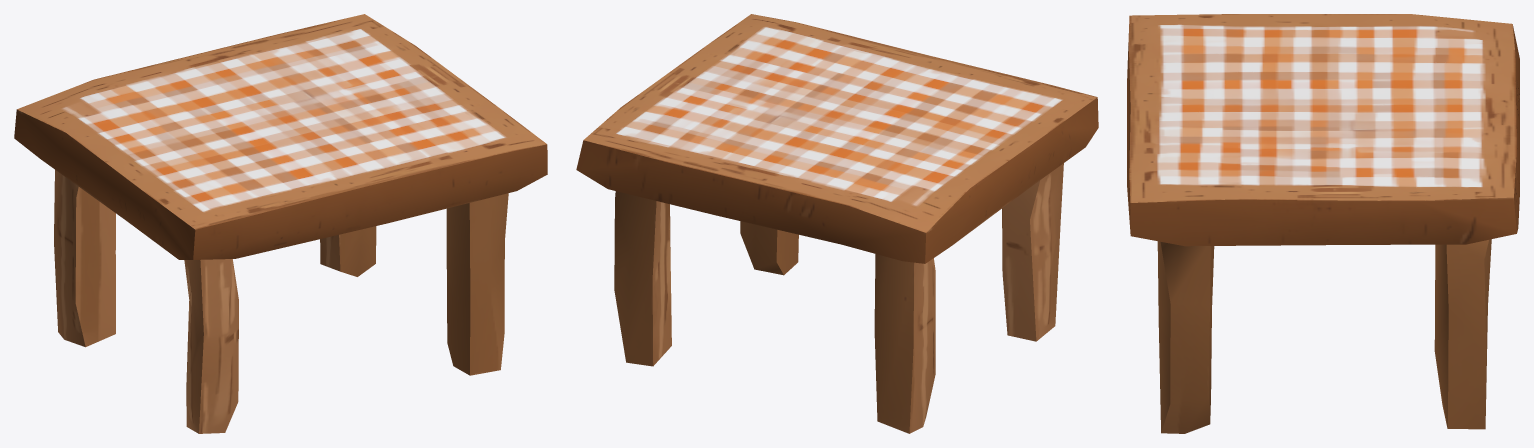
File: family-farm-table.glb
The picture shows the model from 3 angles, left to right: view 1: azimuth 30°, elevation 25°; view 2: azimuth 150°, elevation 25°; view 3: azimuth 270°, elevation 25°; orthographic projection. The views are drawn at different scales.
Parts seen in each view (by area): view 1: geometry_0; view 2: geometry_0; view 3: geometry_0.
Boxes of the visible parts, <box> form: geometry_0: <box>14,14,547,433</box>; geometry_0: <box>576,14,1098,433</box>; geometry_0: <box>1127,14,1519,433</box>.
Size of the model in its own units: 1 by 0.6224 by 0.8751.
Materials: 1 (1 with a texture image).
